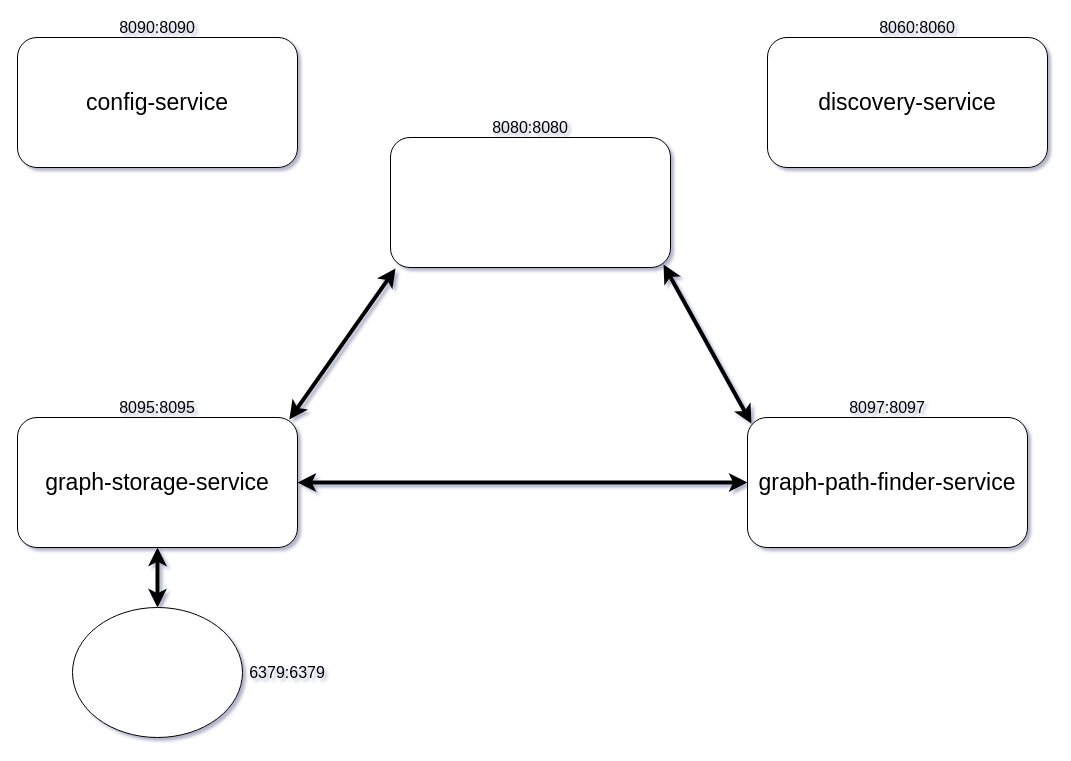
The diagram is 1071 pixels wide and 761 high, and some of its shapes have lost their labels. The shapes that lost their labels are listed below. From the top down, each one's centre as x and y in pixels, then its label:
At (530,202): "gateway-service".
At (157,672): "redis instance".
